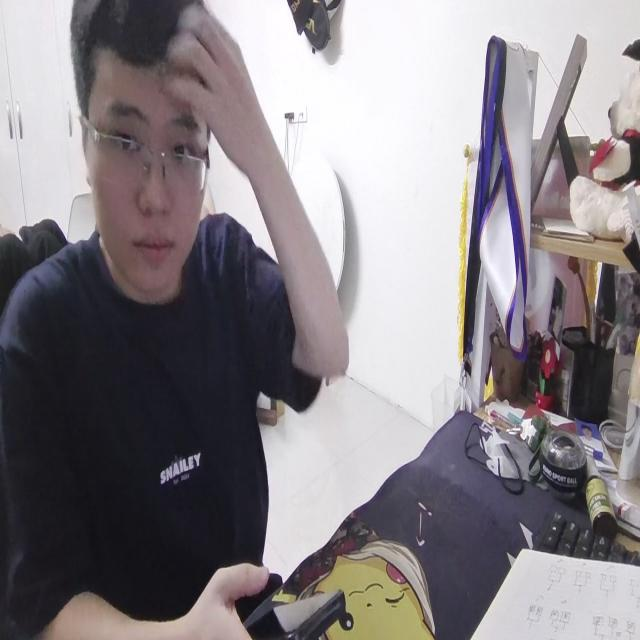book: (465, 539, 640, 640)
phone: (245, 574, 345, 640)
student: (0, 0, 348, 640)
